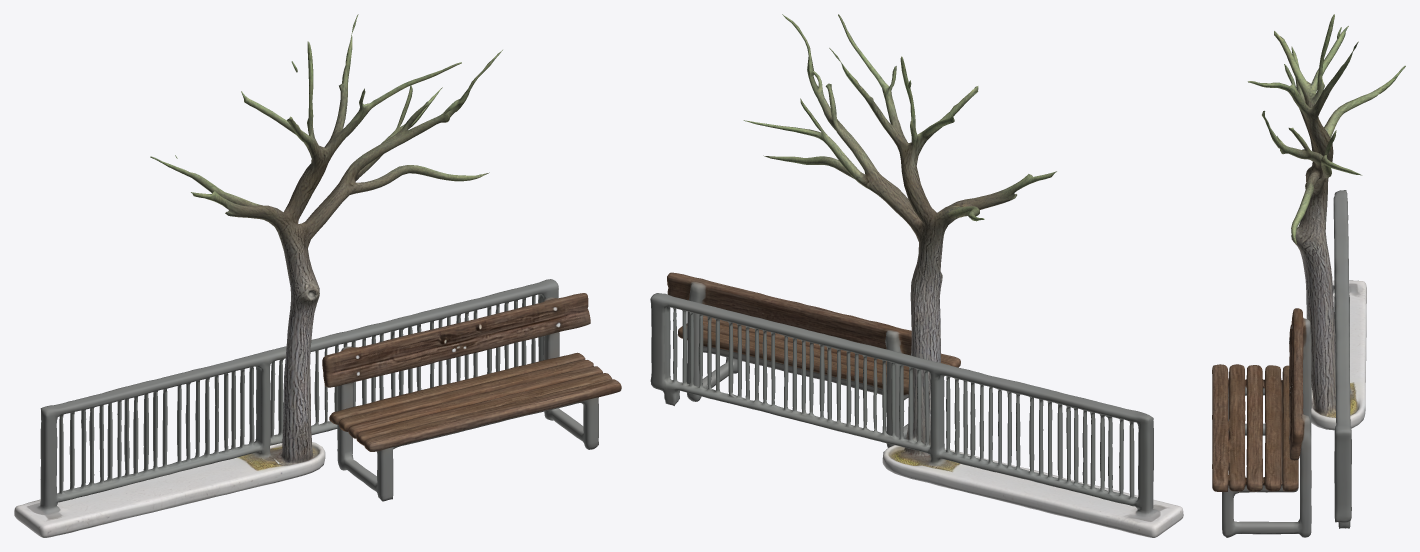
Rendered from campus_willow_verge.glb.
3 renders of one model, left to right at view 1: azimuth 30°, elevation 25°; view 2: azimuth 150°, elevation 25°; view 3: azimuth 270°, elevation 25°, orthographic. The views are drawn at different scales.
Visible parts, largest first — view 1: campus_willow_verge; view 2: campus_willow_verge; view 3: campus_willow_verge.
Boxes of the visible parts, box(x1,y1,x2,y2) form: campus_willow_verge: box(14, 14, 621, 537); campus_willow_verge: box(650, 14, 1183, 537); campus_willow_verge: box(1212, 14, 1405, 537).
Bounding box in the file's own units: 10 × 7.54 × 3.18.
1 material, 1 textured.
